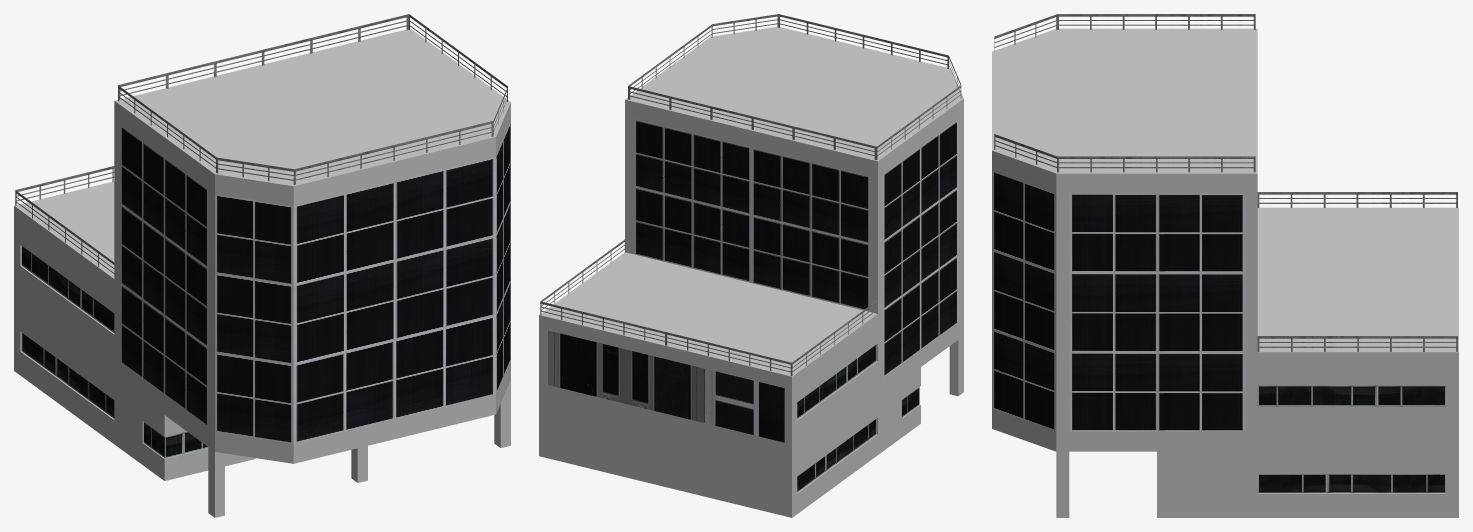
The model's file is Building-G-09.fbx.
The picture shows the model from 3 angles, left to right: view 1: azimuth 30°, elevation 25°; view 2: azimuth 150°, elevation 25°; view 3: azimuth 270°, elevation 25°; orthographic projection. The views are drawn at different scales.
Parts seen in each view (by area): view 1: Building-G-09; view 2: Building-G-09; view 3: Building-G-09.
Boxes of the visible parts, box(x1,y1,x2,y2) form: Building-G-09: box(14, 14, 510, 517); Building-G-09: box(539, 14, 963, 517); Building-G-09: box(992, 14, 1458, 517).
Bounding box in the file's own units: 2343 × 2720 × 3193.
